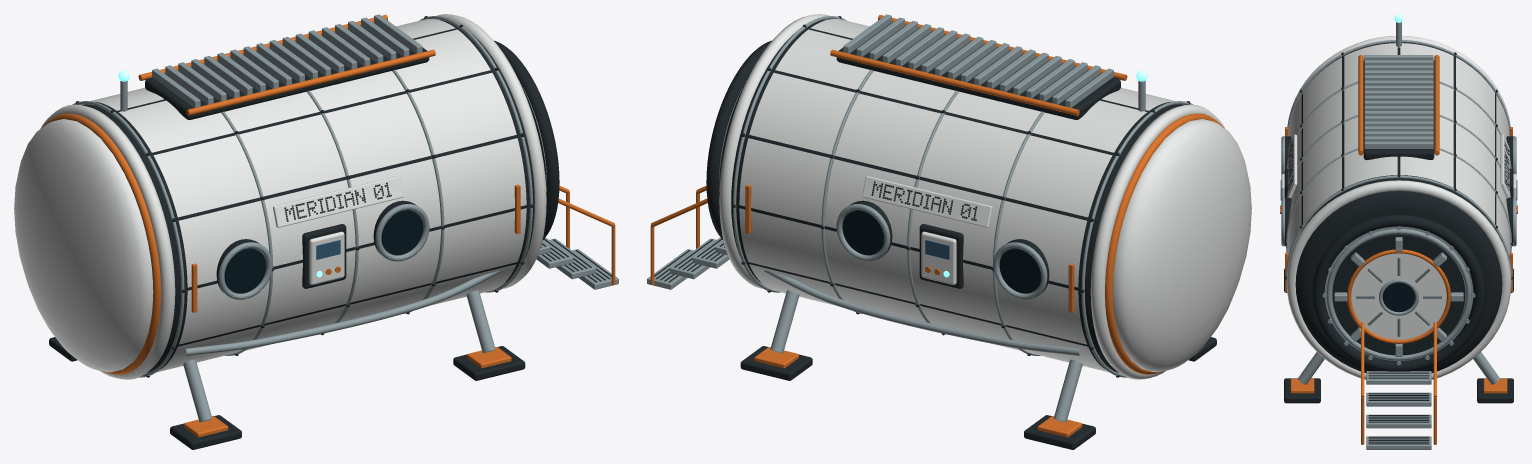
Rendered from habitat.glb.
The picture shows the model from 3 angles, left to right: view 1: azimuth 30°, elevation 25°; view 2: azimuth 150°, elevation 25°; view 3: azimuth 270°, elevation 25°; orthographic projection. The views are drawn at different scales.
Parts seen in each view (by area): view 1: ceramic, titanium, graphite, orange, visor; view 2: ceramic, titanium, graphite, orange, visor; view 3: ceramic, graphite, titanium, orange, visor, seam.
Part boxes in pixels (box(x1,y1,x2,y2)): ceramic: box(14, 14, 546, 379); titanium: box(72, 14, 618, 422); graphite: box(49, 16, 611, 449); orange: box(42, 15, 615, 437); visor: box(224, 210, 423, 292); ceramic: box(719, 14, 1251, 379); titanium: box(647, 14, 1193, 422); graphite: box(654, 16, 1216, 449); orange: box(650, 15, 1223, 437); visor: box(842, 210, 1041, 292); ceramic: box(1281, 36, 1516, 379); graphite: box(1284, 42, 1513, 444); titanium: box(1281, 22, 1516, 449); orange: box(1280, 55, 1517, 444); visor: box(1382, 282, 1415, 312); seam: box(1356, 257, 1441, 336).
Size of the model in its own units: 8.86 by 5.07 by 4.19.
